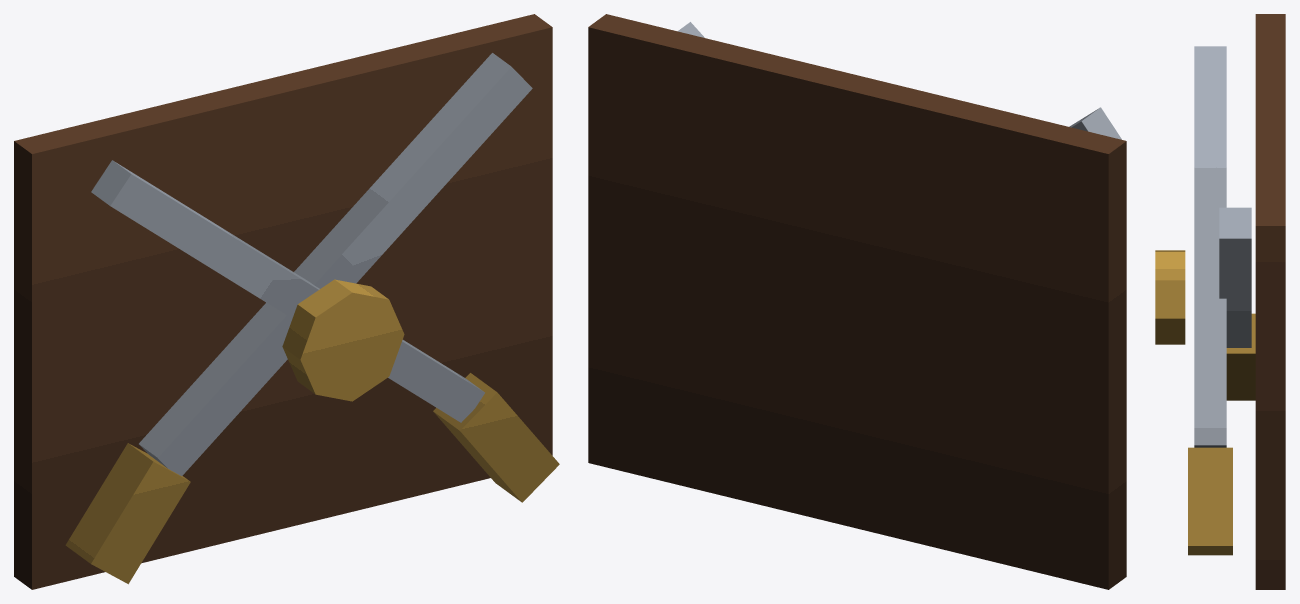
Rendered from wall_swords.glb.
3 renders of one model, left to right at view 1: azimuth 30°, elevation 25°; view 2: azimuth 150°, elevation 25°; view 3: azimuth 270°, elevation 25°, orthographic. The views are drawn at different scales.
Bounding box in the file's own units: 0.5 × 0.4 × 0.13.
1 material, 1 textured.
